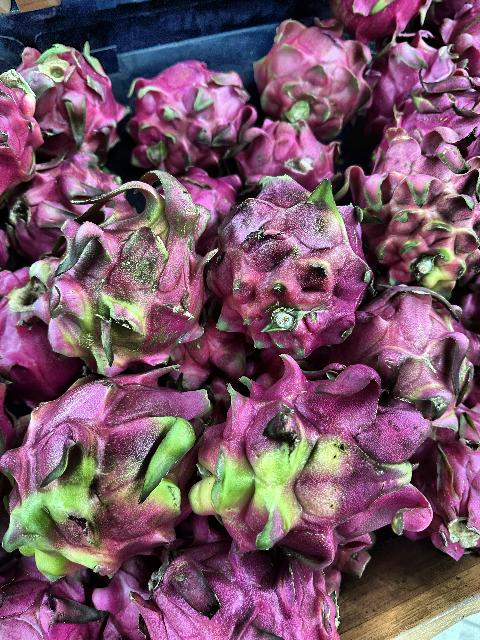buah-naga-belum-matang: (203, 362, 439, 584), (1, 378, 202, 574), (43, 188, 209, 362), (217, 168, 361, 348), (360, 139, 480, 289), (340, 280, 474, 414)
buah-naga-matang: (144, 524, 342, 640), (128, 49, 246, 168), (251, 18, 372, 122), (18, 44, 124, 150), (0, 264, 84, 392), (420, 395, 480, 555), (19, 157, 125, 246), (1, 556, 96, 640), (235, 118, 341, 182), (400, 60, 480, 140), (0, 65, 42, 183), (328, 0, 430, 44), (371, 37, 429, 99)
